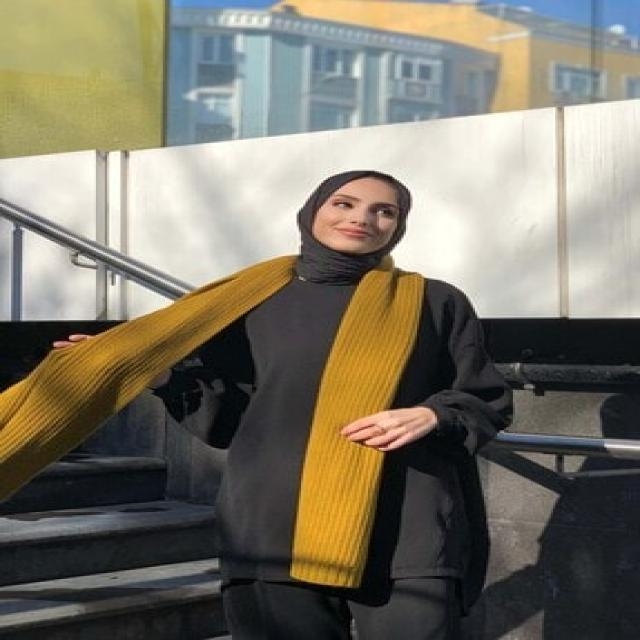4_capucha: (296, 168, 414, 284)
